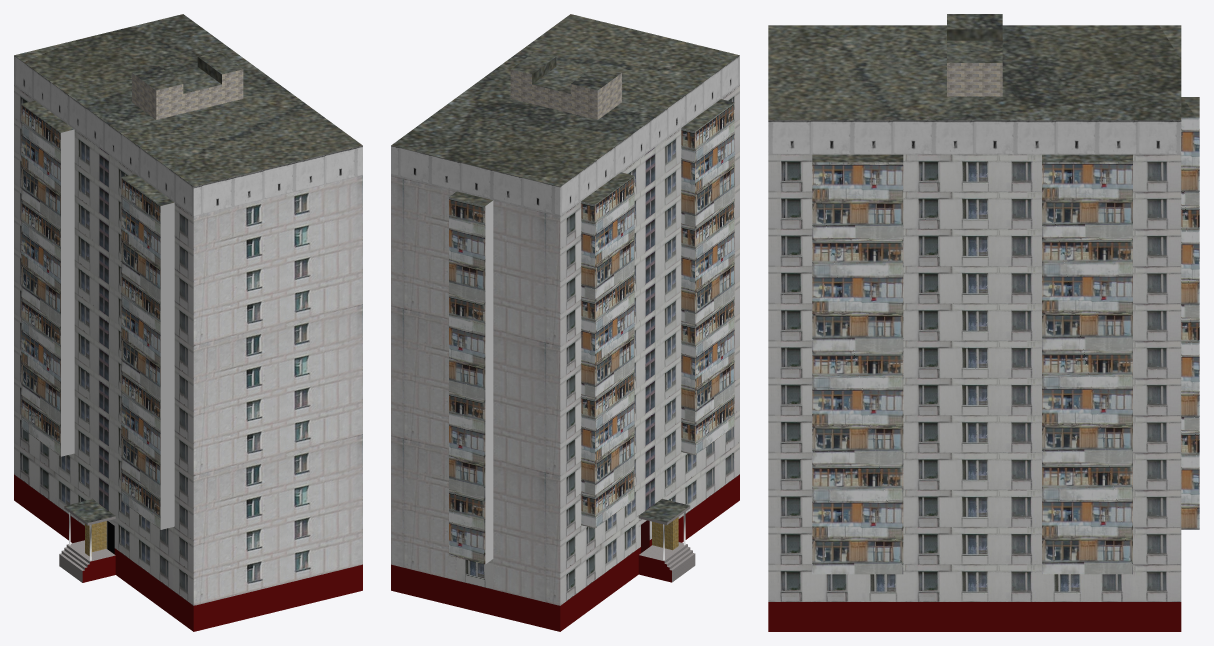
File: дом блюхера.fbx
3 renders of one model, left to right at view 1: azimuth 30°, elevation 25°; view 2: azimuth 150°, elevation 25°; view 3: azimuth 270°, elevation 25°, orthographic. The views are drawn at different scales.
Parts seen in each view (by area): view 1: _(Loose Entity); view 2: _(Loose Entity); view 3: _(Loose Entity).
Part boxes in pixels (bbox=[...]): _(Loose Entity): bbox=[14, 14, 362, 631]; _(Loose Entity): bbox=[391, 14, 739, 631]; _(Loose Entity): bbox=[768, 14, 1199, 631].
Size of the model in its own units: 1930 by 4047 by 2900.
15 materials, 9 textured.
